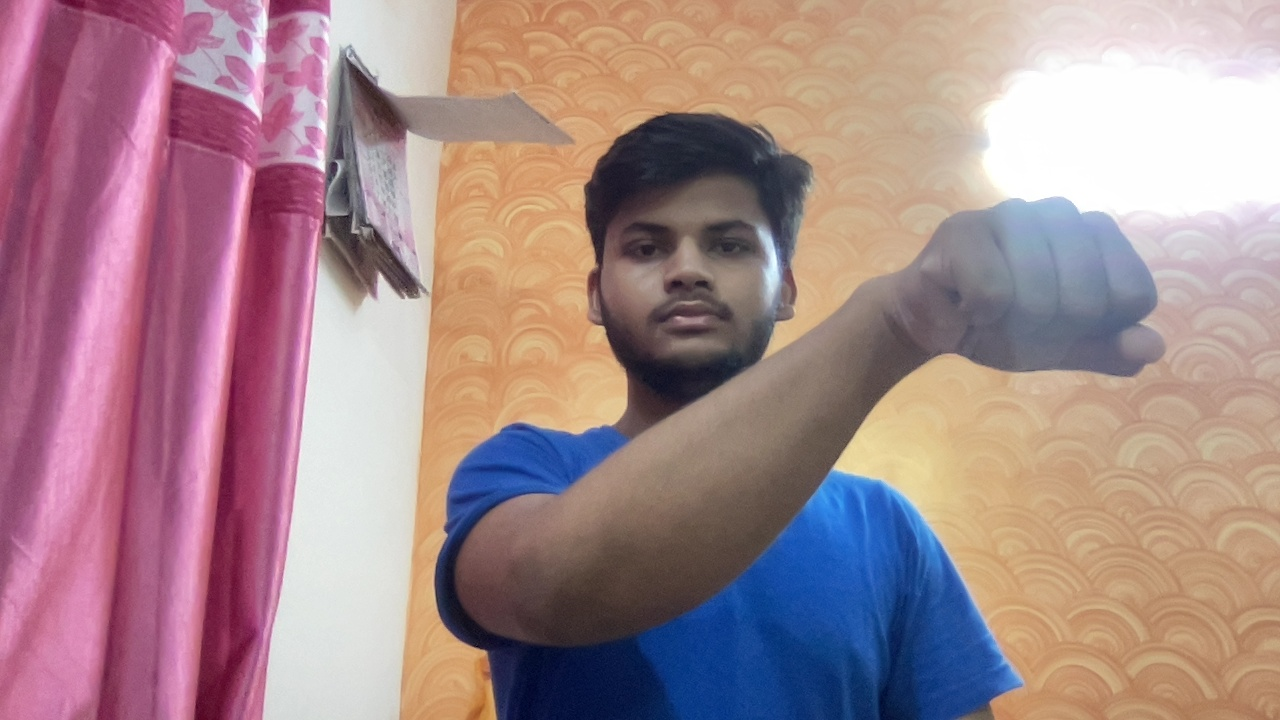yes: (909, 204, 1204, 414)
